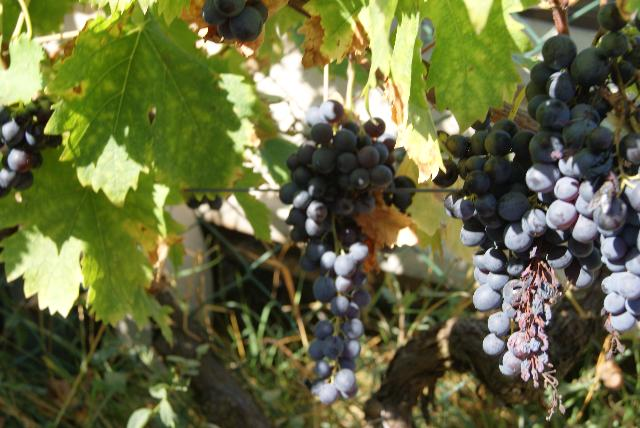grapes: (280, 100, 415, 405), (528, 2, 640, 331), (445, 119, 534, 356)
